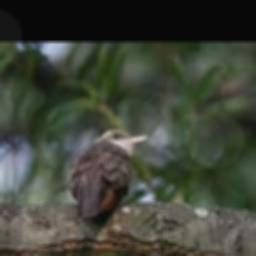Cuckoo: (68, 129, 148, 221)
